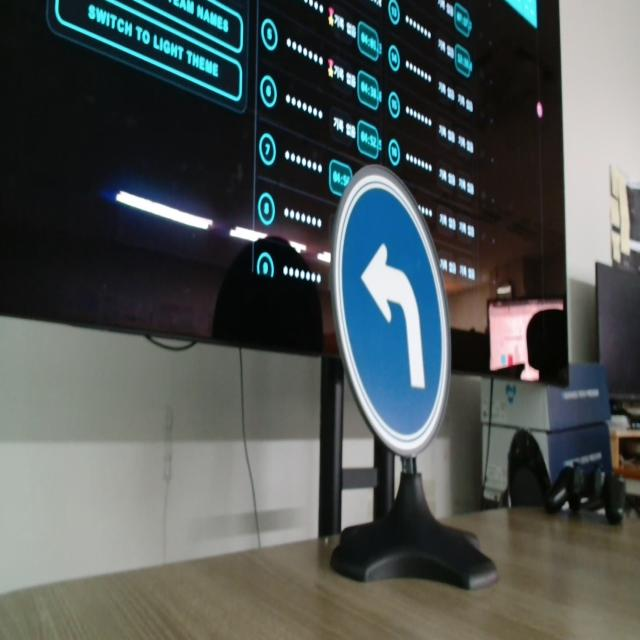left_direction: (324, 139, 471, 490)
